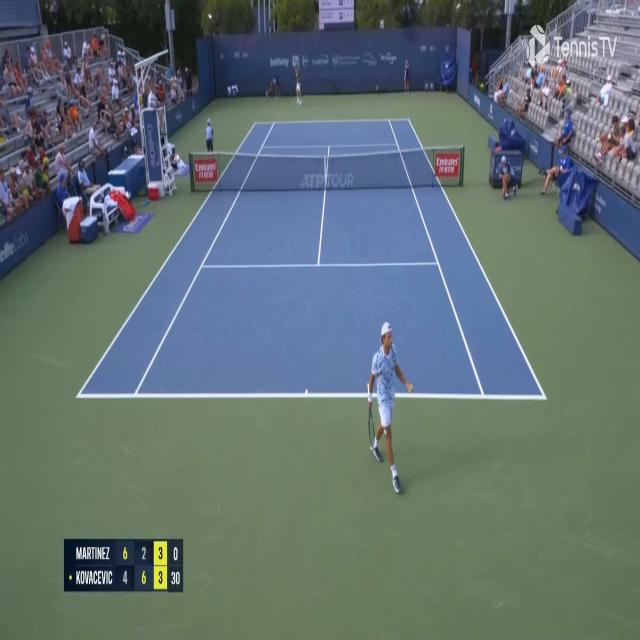tennis-player: (366, 317, 416, 496), (292, 63, 302, 106)
